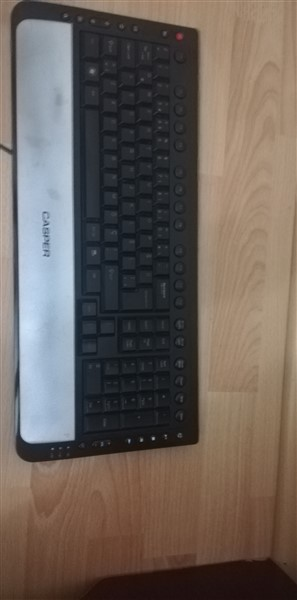klavye: (4, 1, 206, 467)
